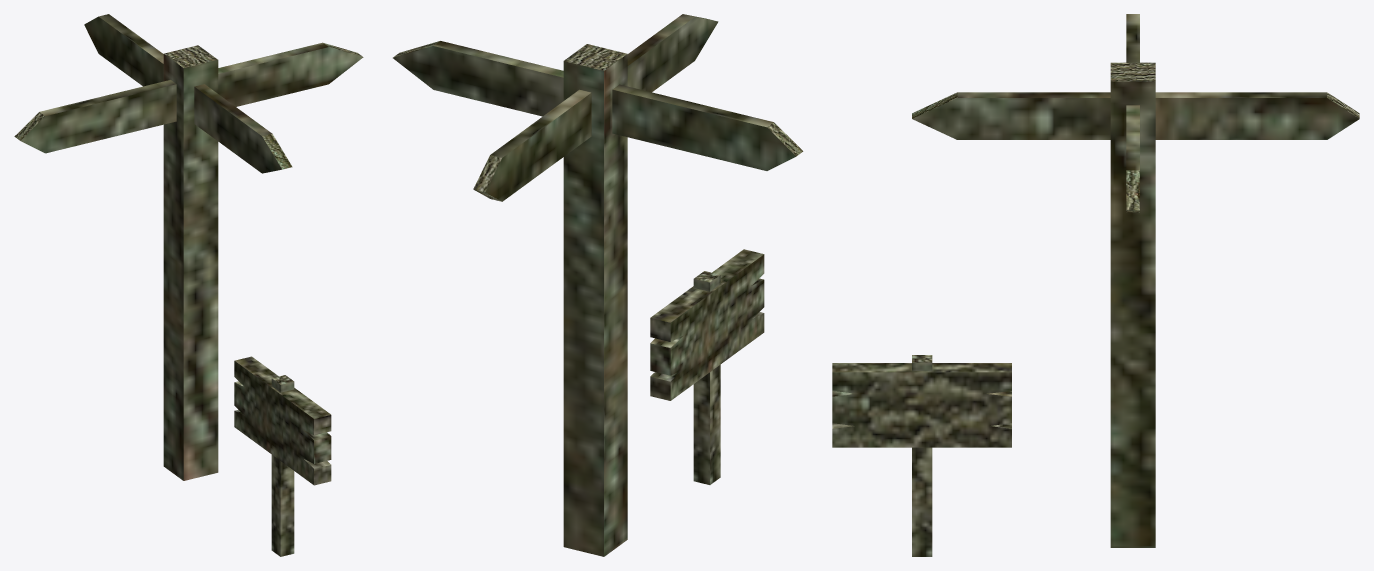
Rendered from signs.fbx.
3 views of the same model, side by side, from view 1: azimuth 30°, elevation 25°; view 2: azimuth 150°, elevation 25°; view 3: azimuth 270°, elevation 25° (orthographic). The views are drawn at different scales.
Parts seen in each view (by area): view 1: sign_big, sign; view 2: sign_big, sign; view 3: sign_big, sign.
Part boxes in pixels (x1,y1,x2,y2): sign_big: (14,14,363,480); sign: (234,356,331,556); sign_big: (393,14,803,556); sign: (650,249,764,484); sign_big: (912,14,1359,547); sign: (832,355,1011,556).
Bounding box in the file's own units: 322 × 382 × 379.
1 material, 1 textured.
